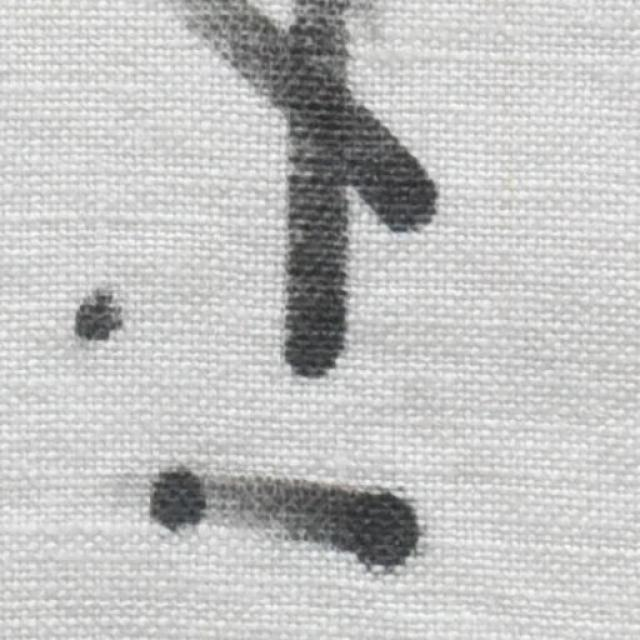Stain: (184, 0, 444, 382), (152, 464, 424, 572), (72, 288, 128, 346)
